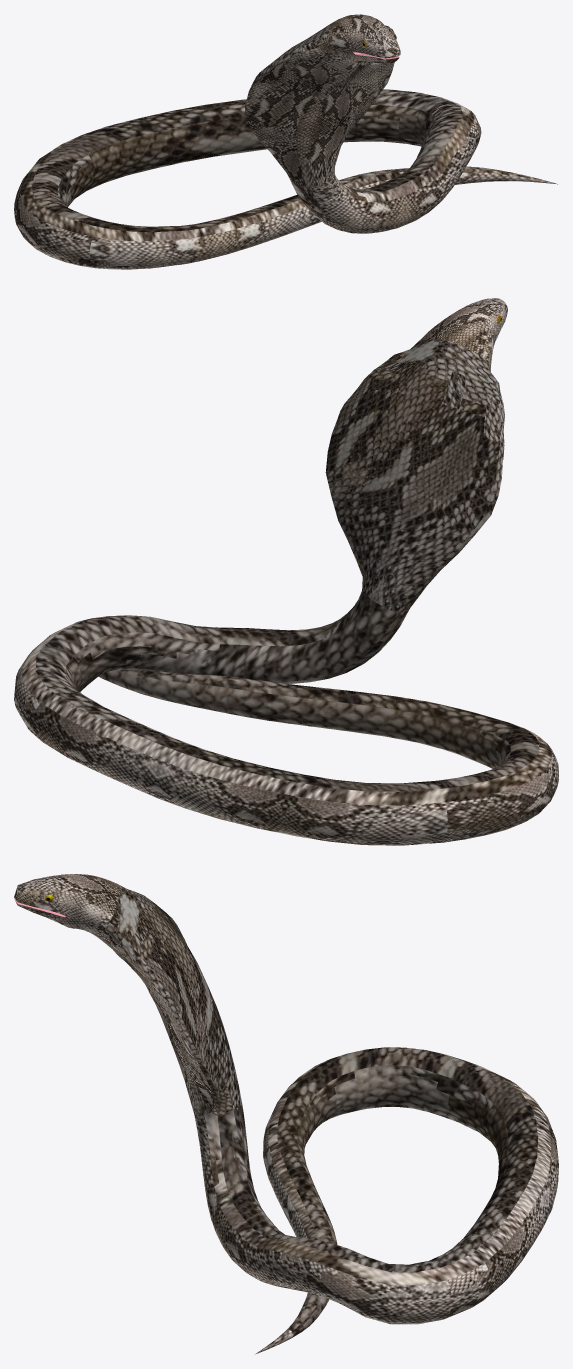
File: realcobra.glb
3 renders of one model, top to bottom at view 1: azimuth 30°, elevation 25°; view 2: azimuth 150°, elevation 25°; view 3: azimuth 270°, elevation 25°, orthographic. The views are drawn at different scales.
Parts seen in each view (by area): view 1: Cobra; view 2: Cobra; view 3: Cobra.
Boxes of the visible parts, bbox=[...] form: Cobra: bbox=[14, 14, 557, 269]; Cobra: bbox=[14, 298, 558, 845]; Cobra: bbox=[14, 874, 558, 1354].
Size of the model in its own units: 0.8736 by 0.51 by 0.7651.
Materials: 5 (4 with a texture image).
